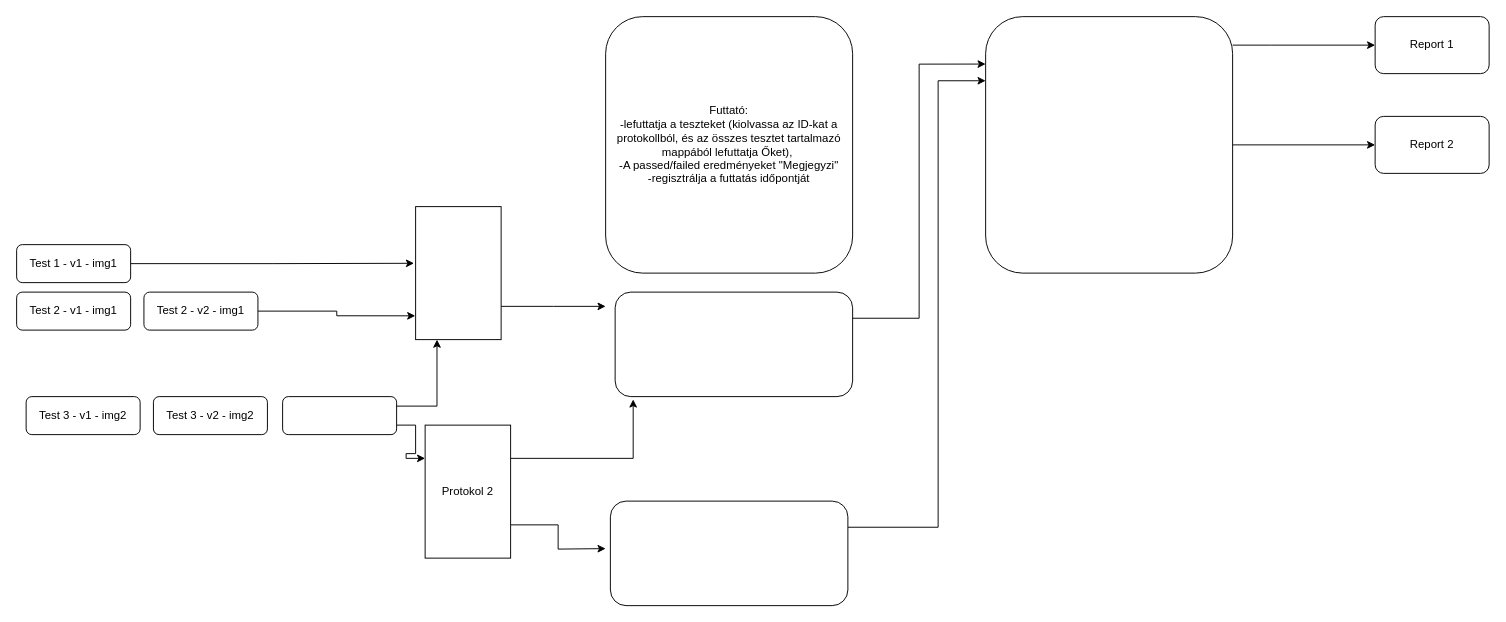
The diagram is 1506 pixels wide and 622 high, and some of its shapes have lost their labels. Here are the shapes that lost their labels. From the top down, the centre of each, then its label:
At (x=1109, y=144): "Reporter: -report generálás (protokoll név+futtatás ideje)".
At (x=458, y=273): "Protokol 1 Ennek az azonosítója lehet pl a tesztelendő image neve (verziója is)".
At (x=733, y=344): "Futtatás 1".
At (x=339, y=415): "Test 3 - v3 - img1, img2".
At (x=728, y=553): "Futtatás 2".
